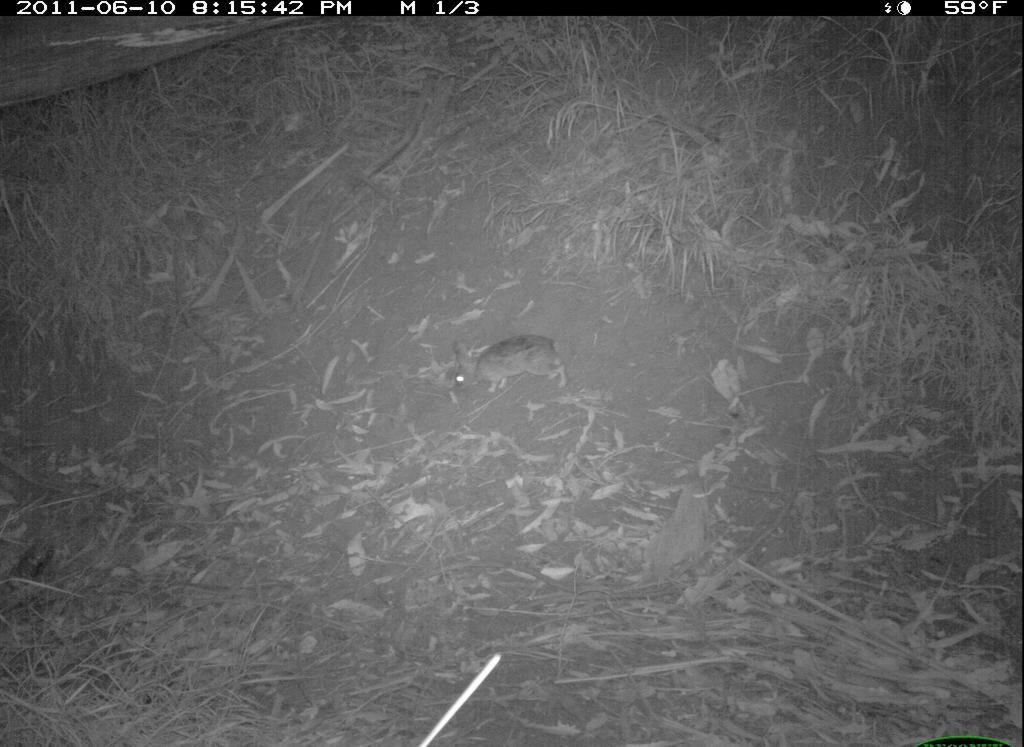rabbit: (437, 327, 579, 402)
